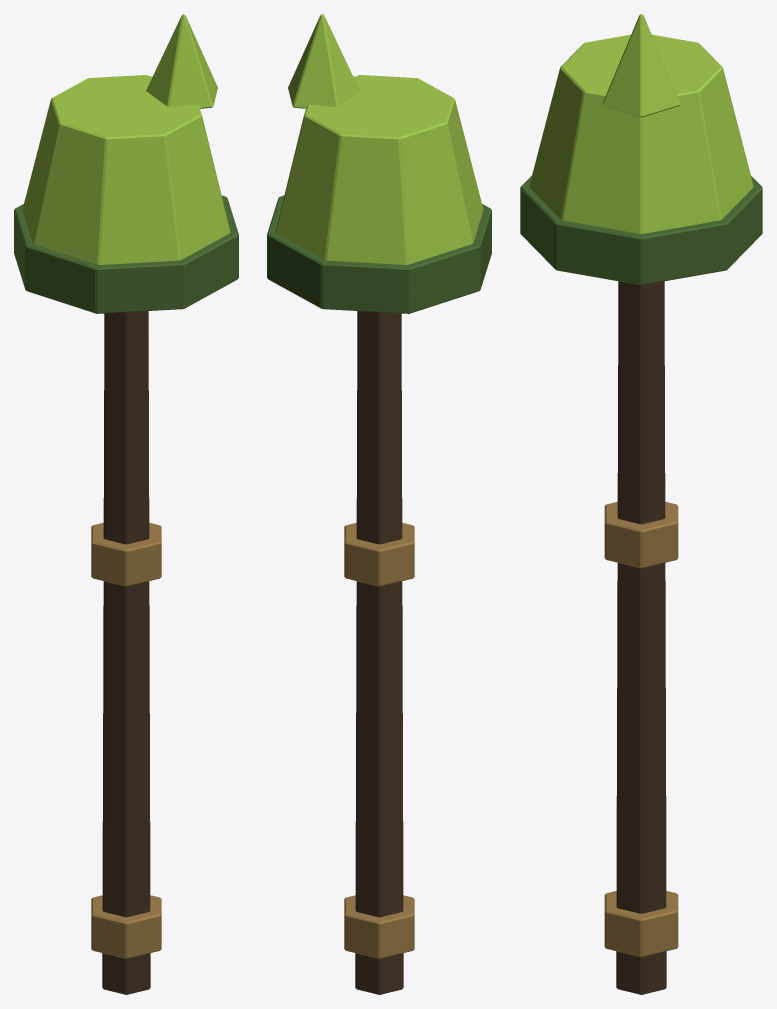
File: mage_acid.glb
3 views of the same model, side by side, from view 1: azimuth 30°, elevation 25°; view 2: azimuth 150°, elevation 25°; view 3: azimuth 270°, elevation 25° (orthographic). The views are drawn at different scales.
Visible parts, largest first — view 1: weapon.024; view 2: weapon.024; view 3: weapon.024.
Boxes of the visible parts, <box> form: weapon.024: <box>14,14,238,994</box>; weapon.024: <box>267,14,491,994</box>; weapon.024: <box>520,14,762,994</box>.
Size of the model in its own units: 0.4577 by 2.08 by 0.4577.
